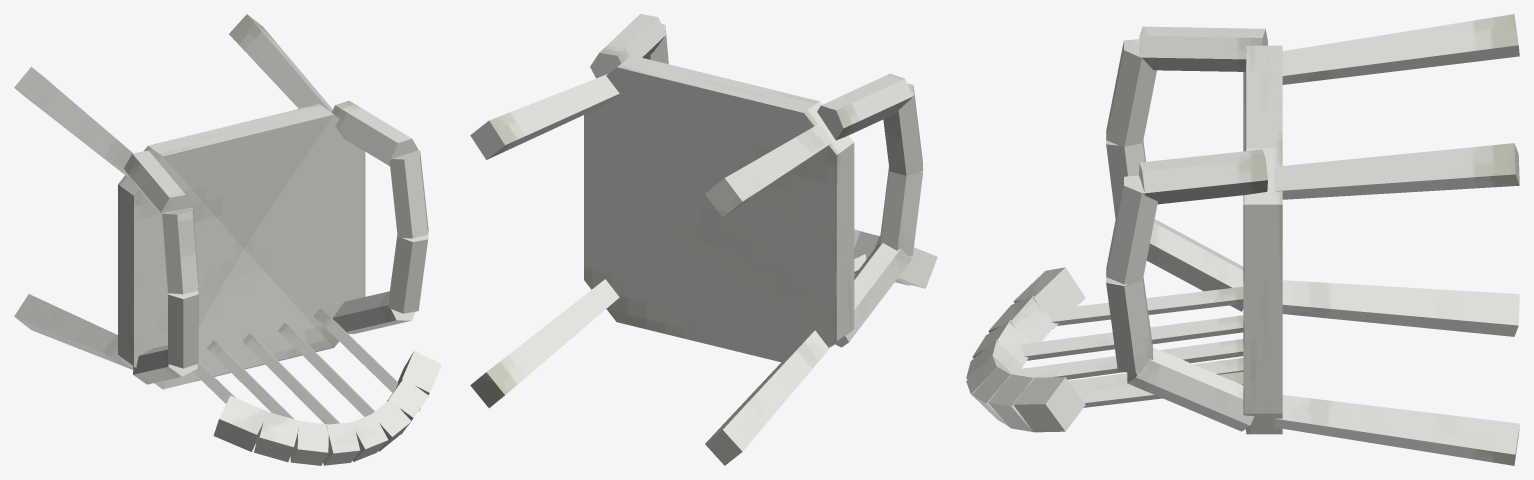
File: pz_chair_seating_outdoor_01_plastic_fidelity_r1.obj
3 views of the same model, side by side, from view 1: azimuth 30°, elevation 25°; view 2: azimuth 150°, elevation 25°; view 3: azimuth 270°, elevation 25° (orthographic). The views are drawn at different scales.
Parts seen in each view (by area): view 1: seat, arm, back, frame; view 2: seat, frame, arm, back; view 3: frame, arm, back, seat.
Boxes of the visible parts, <box> form: seat: <box>118,104,365,389</box>; arm: <box>124,100,428,384</box>; back: <box>192,308,441,465</box>; frame: <box>14,14,332,369</box>; seat: <box>584,55,854,362</box>; frame: <box>470,74,832,465</box>; arm: <box>590,14,923,347</box>; back: <box>854,229,937,288</box>; frame: <box>1274,14,1519,465</box>; arm: <box>1106,26,1267,431</box>; back: <box>966,267,1243,432</box>; seat: <box>1243,45,1282,434</box>.
Bounding box in the file's own units: 0.6178 × 0.6032 × 0.9274.
Materials: 1 (1 with a texture image).
